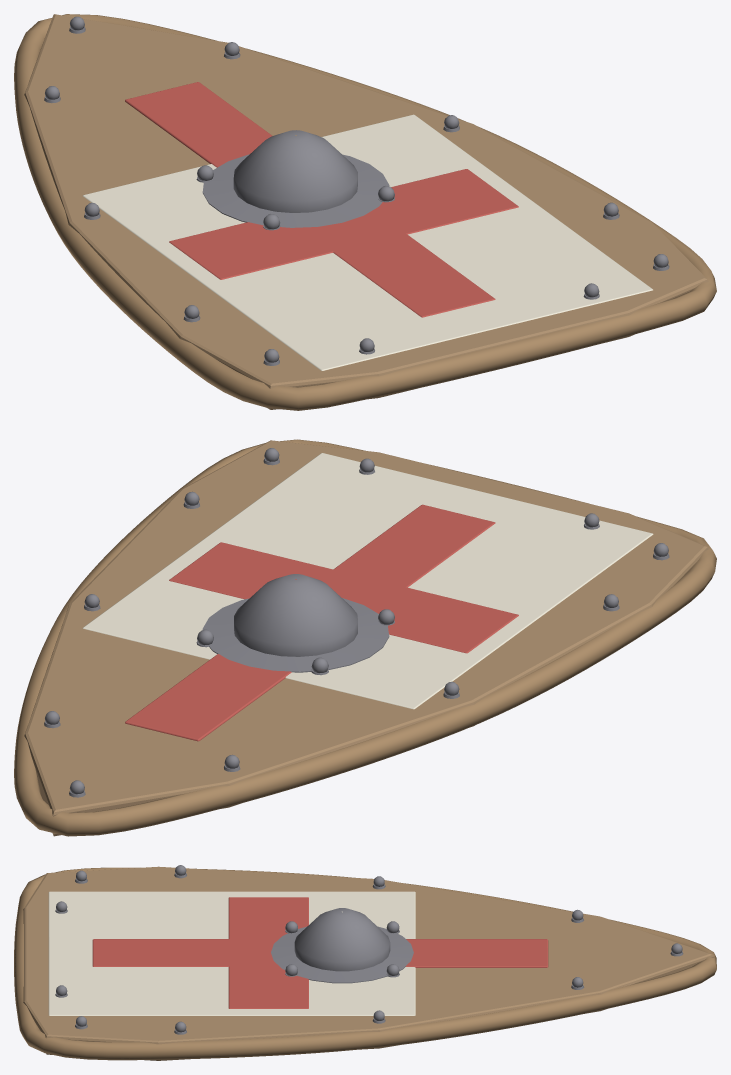
File: kite-shield.glb
3 renders of one model, top to bottom at view 1: azimuth 30°, elevation 25°; view 2: azimuth 150°, elevation 25°; view 3: azimuth 270°, elevation 25°, orthographic. The views are drawn at different scales.
Visible parts, largest first — view 1: kite-shield; view 2: kite-shield; view 3: kite-shield.
Boxes of the visible parts, x1,y1,x2,y2 form: kite-shield: (14,14,716,410); kite-shield: (14,439,716,836); kite-shield: (14,865,716,1060).
Size of the model in its own units: 0.5885 by 0.133 by 0.9562.
